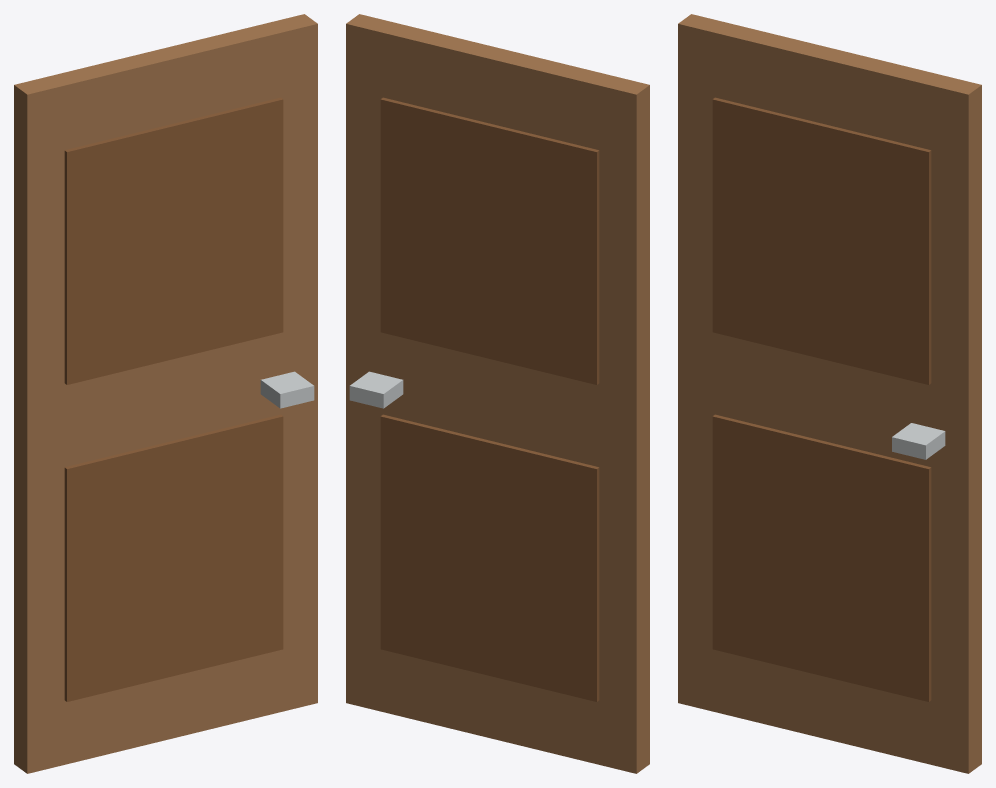
File: yx_door_wood.glb
The picture shows the model from 3 angles, left to right: view 1: azimuth 30°, elevation 25°; view 2: azimuth 150°, elevation 25°; view 3: azimuth 330°, elevation 25°; orthographic projection.
Parts seen in each view (by area): view 1: yx_door_wood; view 2: yx_door_wood; view 3: yx_door_wood.
Boxes of the visible parts, x1,y1,x2,y2 form: yx_door_wood: (14,14,317,773); yx_door_wood: (346,14,649,773); yx_door_wood: (678,14,981,773).
Size of the model in its own units: 0.94 by 2.1 by 0.294.
